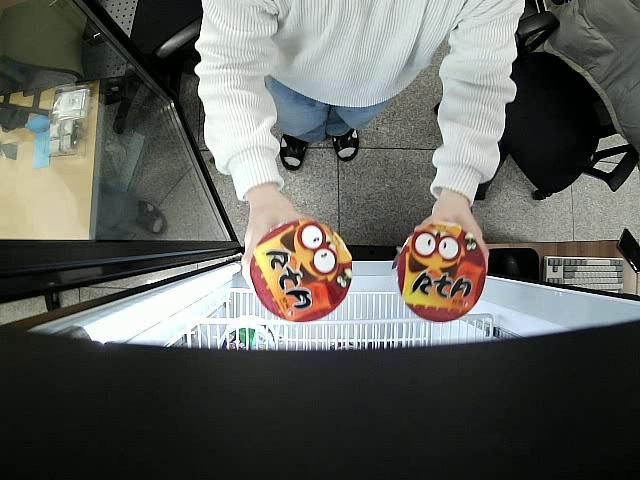00_hand: (239, 195, 317, 299), (413, 201, 492, 277)
05_nuguri_L: (251, 219, 352, 323), (399, 223, 485, 323)
